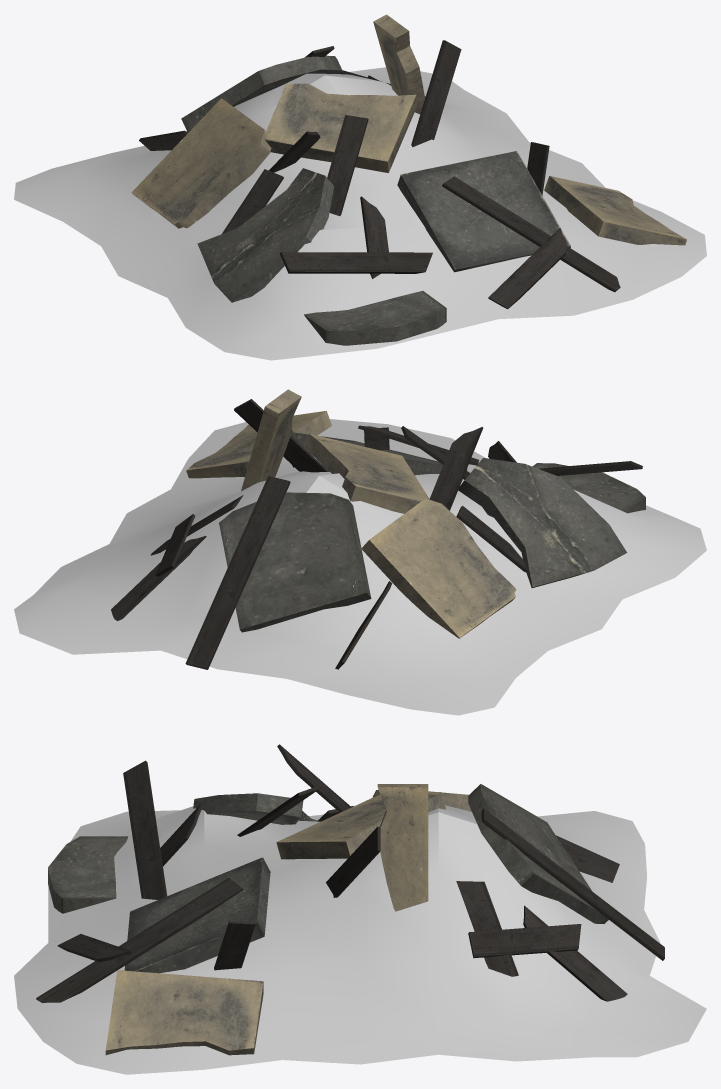
File: PileofDebris.fbx
3 renders of one model, top to bottom at view 1: azimuth 30°, elevation 25°; view 2: azimuth 150°, elevation 25°; view 3: azimuth 270°, elevation 25°, orthographic. The views are drawn at different scales.
Visible parts, largest first — view 1: Plane_005; view 2: Plane_005; view 3: Plane_005.
Part boxes in pixels (x1,y1,x2,y2): Plane_005: [14, 14, 706, 360]; Plane_005: [14, 389, 706, 715]; Plane_005: [14, 744, 706, 1074].
Bounding box in the file's own units: 9.26 × 3.18 × 10.23.
